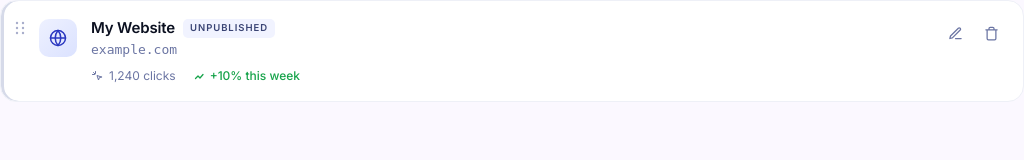
Test: ManagedLinkCard › switches title to an inline input when title is clicked
Click the button "My Website". click: (133, 28)
box: [91,17,175,40]
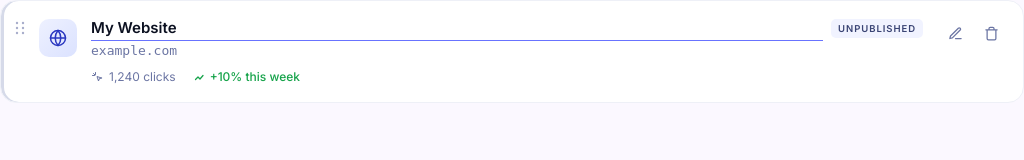
Result: the field showing "My Website" is shown at [91,17,823,40]
